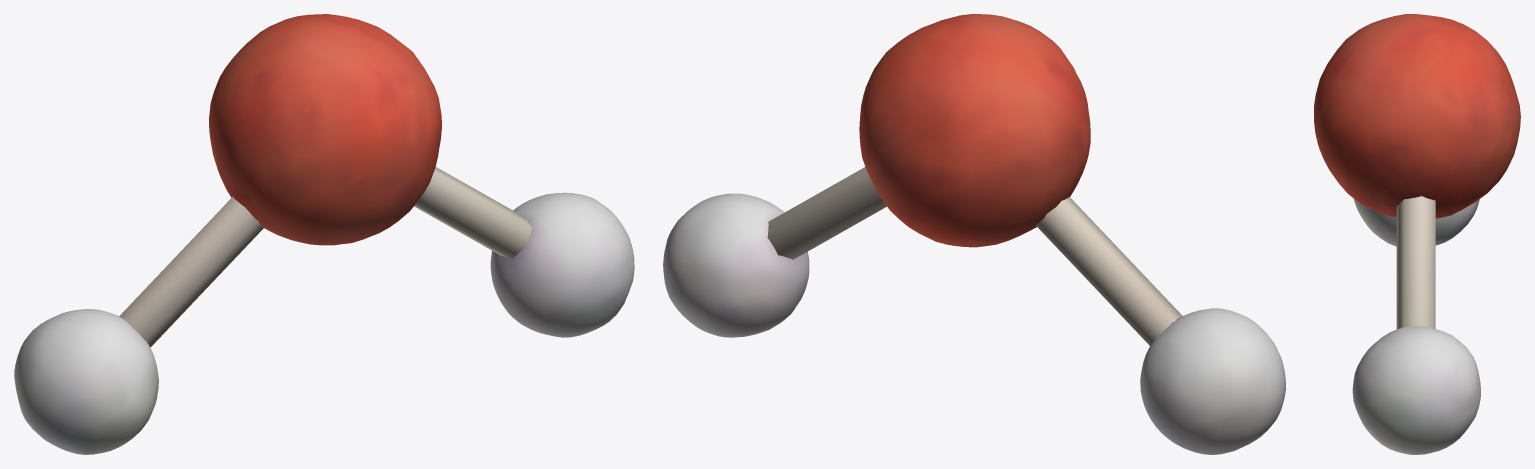
3 renders of one model, left to right at view 1: azimuth 30°, elevation 25°; view 2: azimuth 150°, elevation 25°; view 3: azimuth 270°, elevation 25°, orthographic. The views are drawn at different scales.
Parts seen in each view (by area): view 1: h2o-oxygen, h2o-hydrogen, h2o-bonds; view 2: h2o-oxygen, h2o-hydrogen, h2o-bonds; view 3: h2o-oxygen, h2o-hydrogen, h2o-bonds.
Boxes of the visible parts, x1,y1,x2,y2 form: h2o-oxygen: (209,14,441,245); h2o-hydrogen: (14,192,634,454); h2o-bonds: (119,167,531,347); h2o-oxygen: (859,14,1090,247); h2o-hydrogen: (663,193,1285,454); h2o-bonds: (767,167,1182,345); h2o-oxygen: (1314,14,1520,218); h2o-hydrogen: (1352,198,1480,454); h2o-bonds: (1396,196,1435,329).
Size of what is drawn, in the model's own units: 1.1 by 0.6357 by 0.3701.
